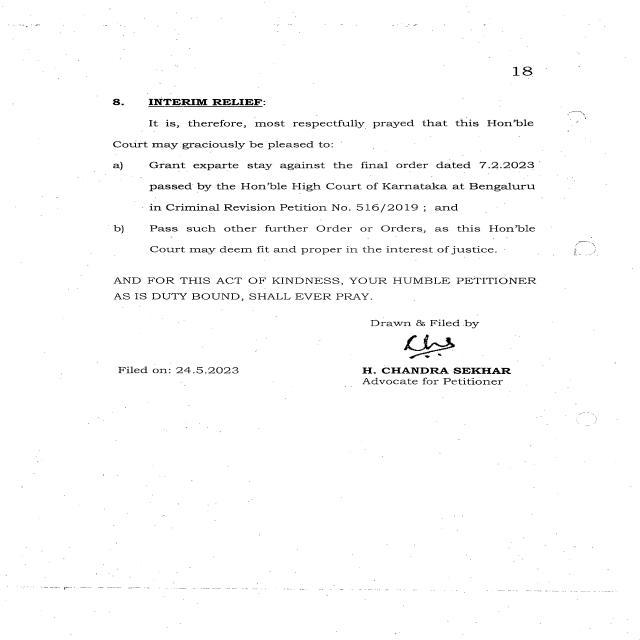page-number: (417, 2, 640, 114)
